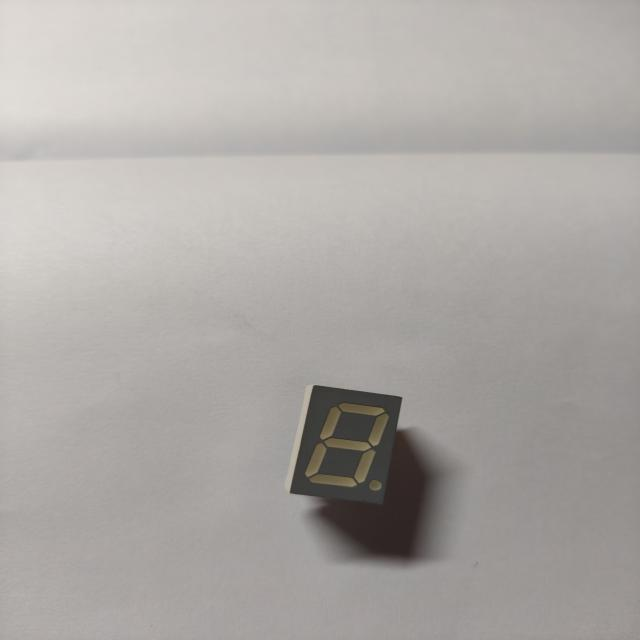sevensegment: (281, 374, 419, 514)
